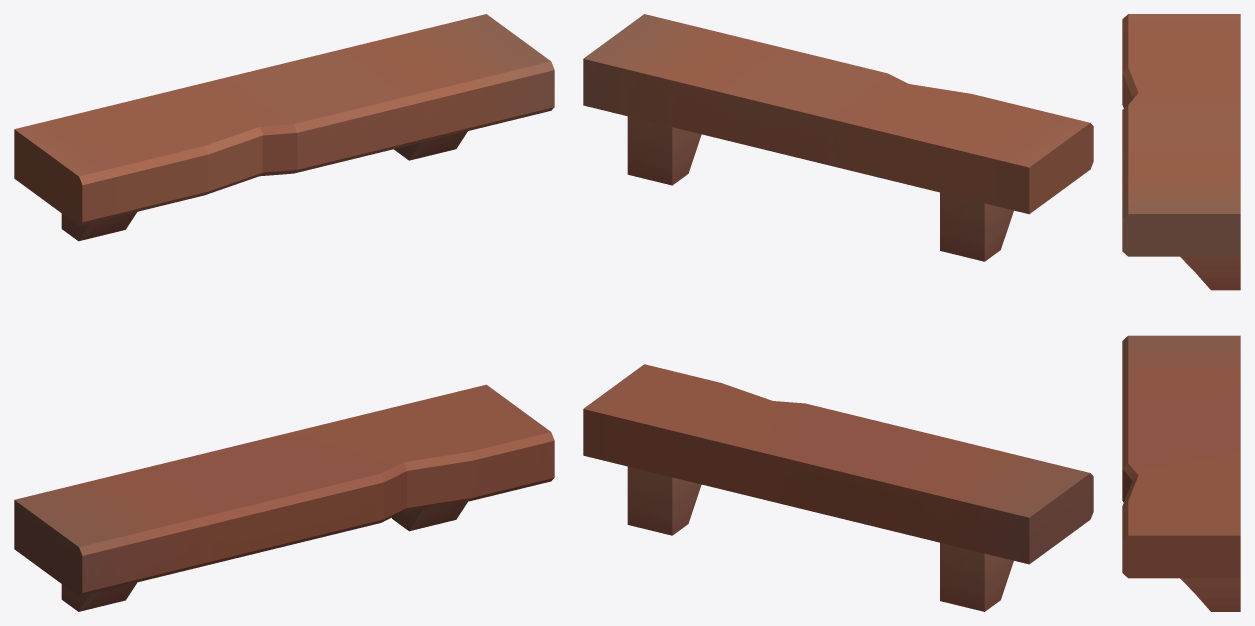
File: kay-estante.gltf
3 renders of one model, left to right at view 1: azimuth 30°, elevation 25°; view 2: azimuth 150°, elevation 25°; view 3: azimuth 270°, elevation 25°, orthographic. The views are drawn at different scales.
Parts seen in each view (by area): view 1: shelves; view 2: shelves; view 3: shelves.
Boxes of the visible parts, x1,y1,x2,y2 form: shelves: (14, 14, 554, 611); shelves: (583, 14, 1093, 611); shelves: (1122, 14, 1240, 611).
Bounding box in the file's own units: 1.3 × 1.27 × 0.325.
1 material, 1 textured.
